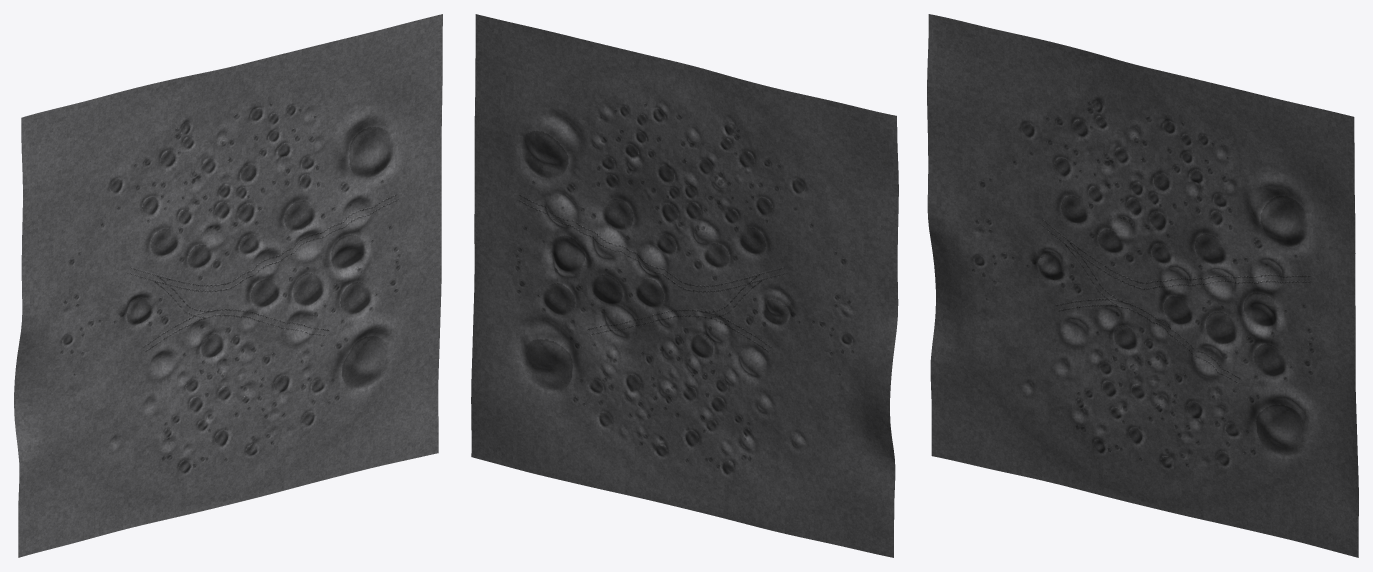
The model's file is lunar_impact_crater.obj.
3 renders of one model, left to right at view 1: azimuth 30°, elevation 25°; view 2: azimuth 150°, elevation 25°; view 3: azimuth 330°, elevation 25°, orthographic.
Parts seen in each view (by area): view 1: lunar_impact_crater; view 2: lunar_impact_crater; view 3: lunar_impact_crater.
Boxes of the visible parts, x1,y1,x2,y2 form: lunar_impact_crater: [14, 14, 442, 557]; lunar_impact_crater: [471, 14, 898, 557]; lunar_impact_crater: [927, 14, 1358, 557].
Bounding box in the file's own units: 42.4 × 42.4 × 1.55.
Materials: 1 (1 with a texture image).
